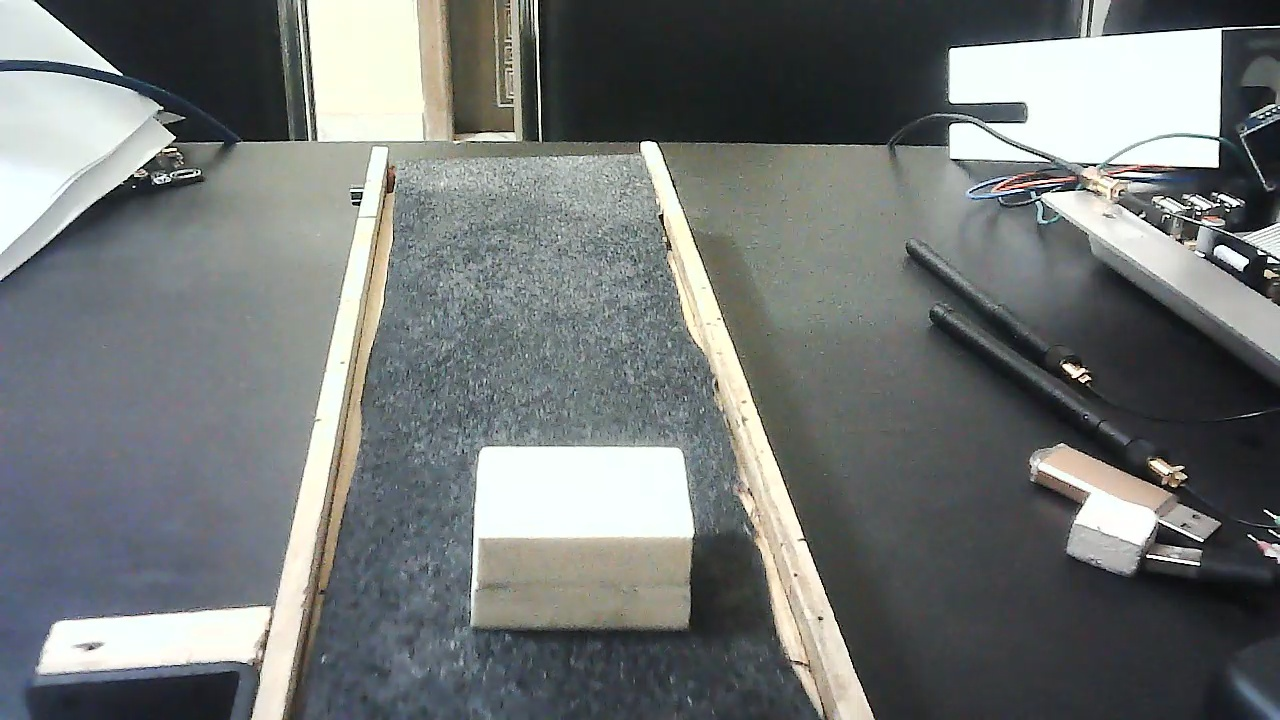BIG: (468, 428, 692, 651)
